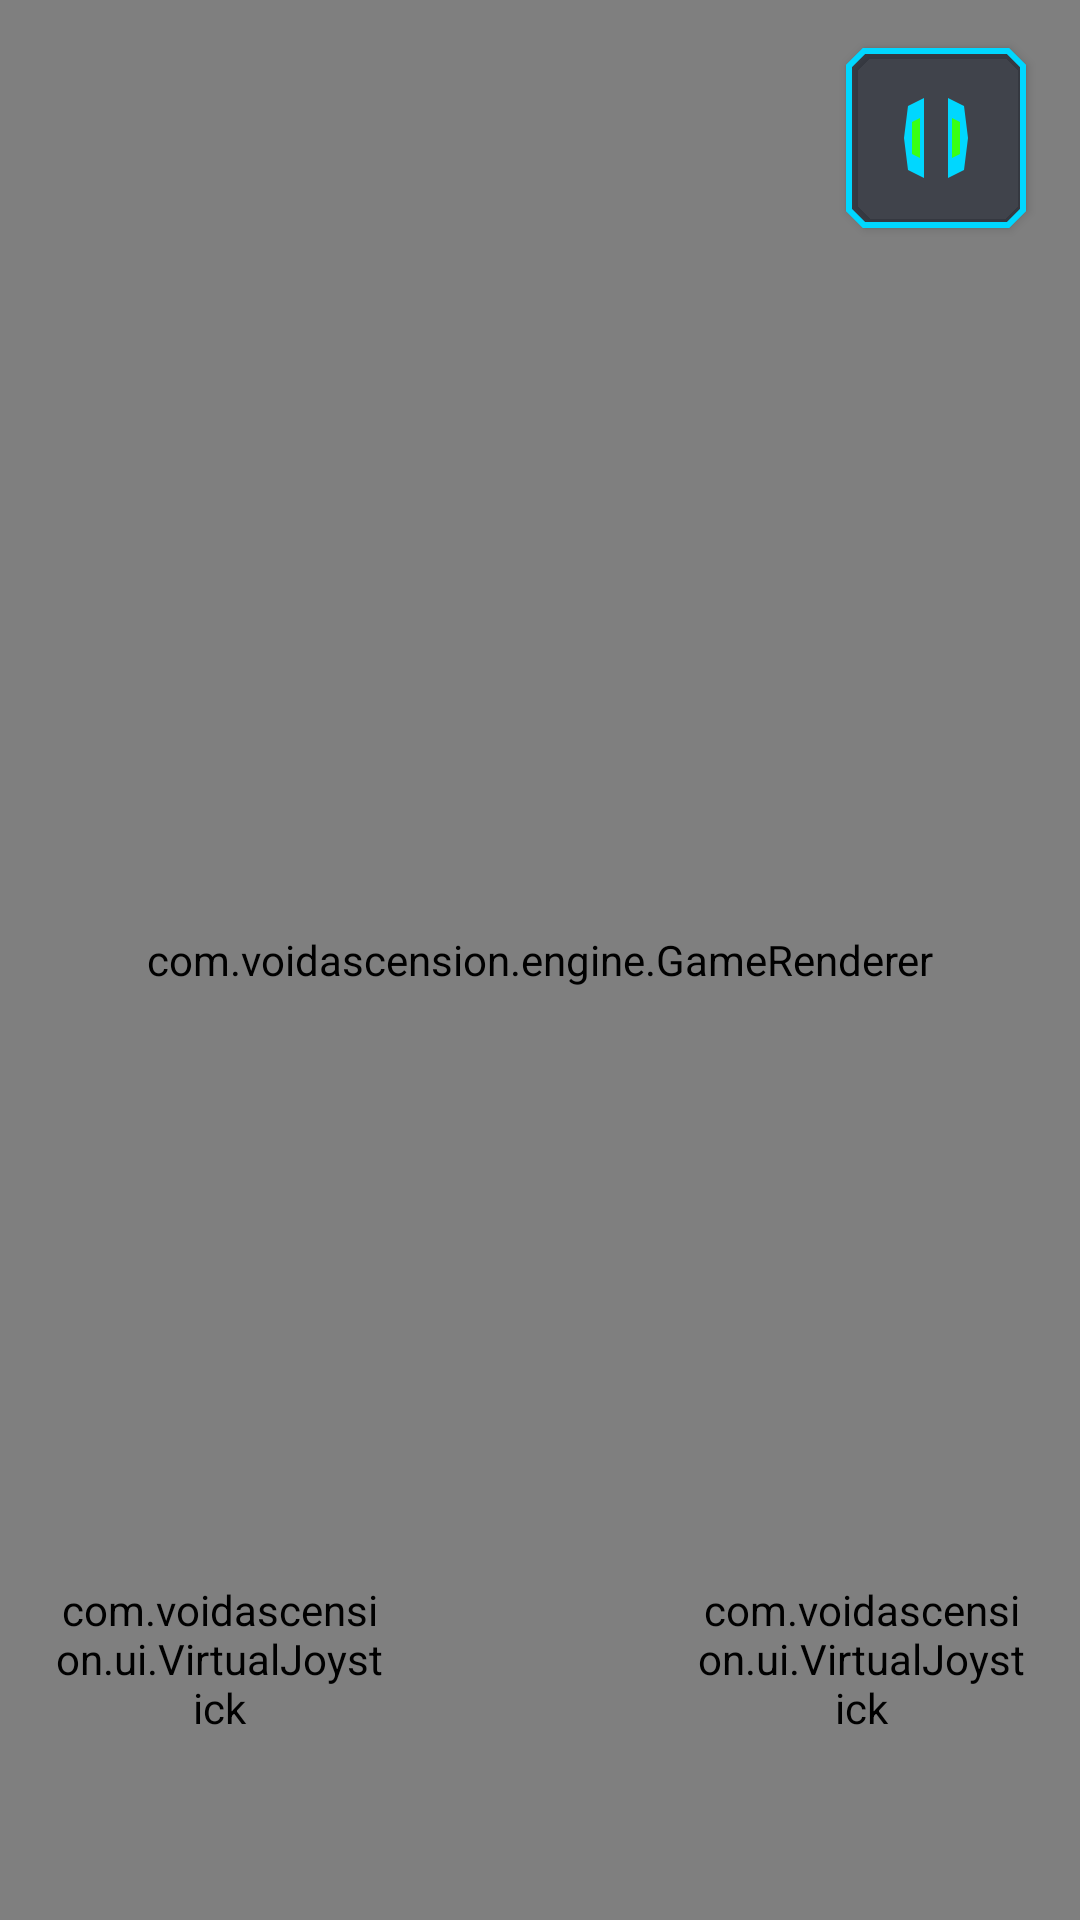

Named icons in this screenshot (1080px×1920px) and their bounding boxes, (x1, y1, x2, y2):
alien pause: (846, 48, 1026, 228)
